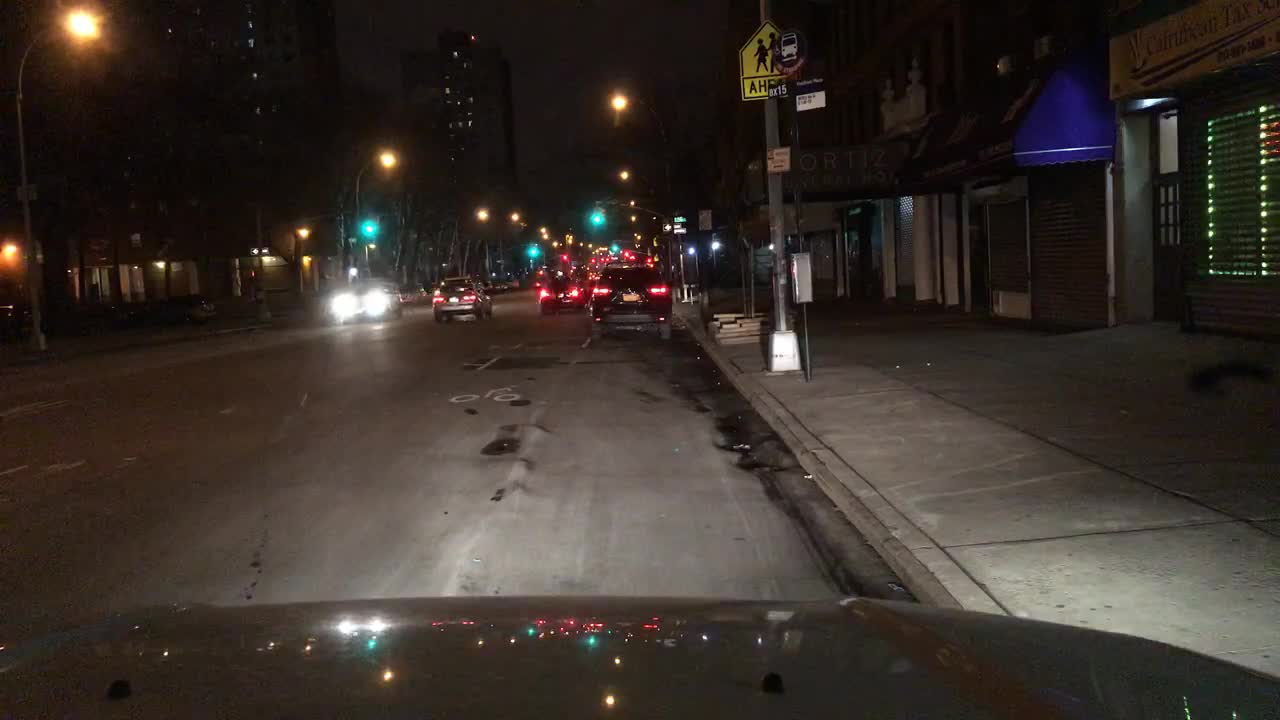car: (588, 262, 674, 340), (324, 276, 401, 324), (433, 274, 492, 322), (149, 291, 215, 326), (539, 276, 588, 313), (401, 283, 426, 304), (519, 268, 542, 290), (492, 277, 511, 294), (585, 265, 599, 280), (571, 267, 585, 277)
traffic light: (362, 220, 376, 237), (592, 209, 604, 223), (529, 246, 540, 256), (610, 246, 620, 251)
traffic sign: (741, 23, 788, 99), (775, 30, 806, 73), (795, 72, 825, 112), (767, 145, 788, 171), (766, 80, 788, 98), (697, 208, 712, 230), (662, 223, 680, 230), (674, 216, 686, 224), (250, 247, 269, 252), (674, 228, 686, 235)
